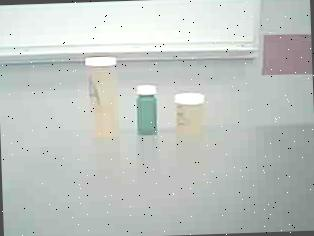Bottle A: (81, 52, 127, 142)
Bottle B: (172, 90, 211, 142)
Bottle C: (133, 83, 161, 140)
